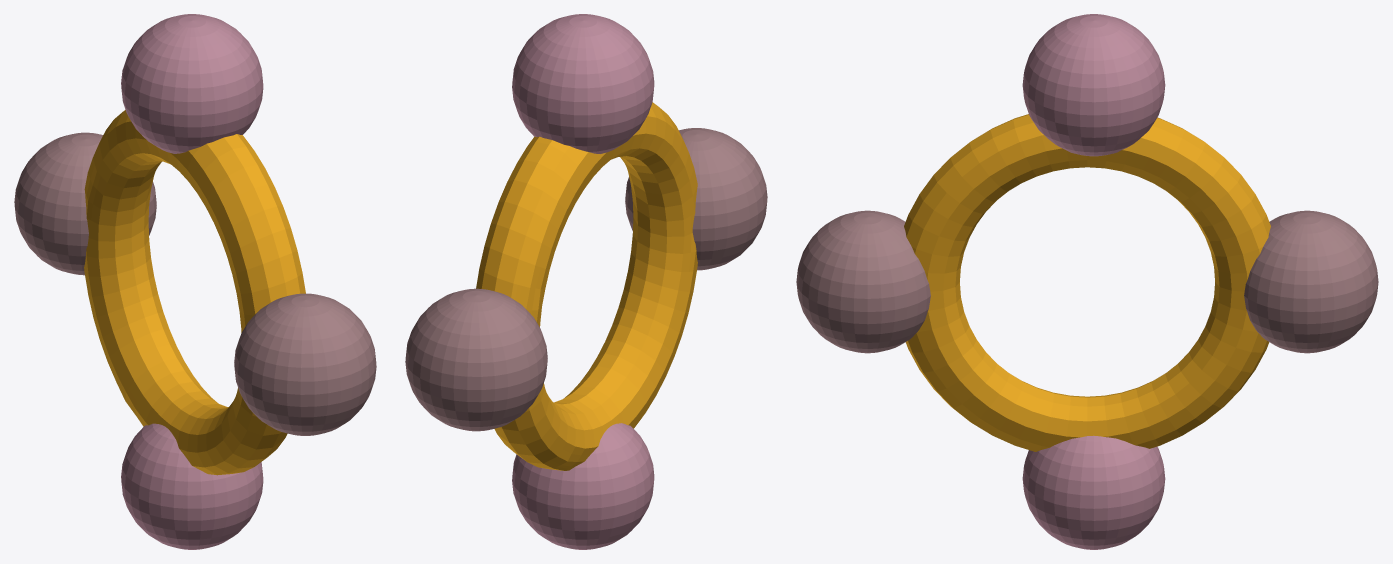
The model's file is collectable.glb.
3 views of the same model, side by side, from view 1: azimuth 30°, elevation 25°; view 2: azimuth 150°, elevation 25°; view 3: azimuth 270°, elevation 25° (orthographic).
Parts seen in each view (by area): view 1: Ring, Tops, Sides; view 2: Ring, Tops, Sides; view 3: Ring, Sides, Tops.
Boxes of the visible parts, box(x1,y1,x2,y2) form: Ring: box(84, 110, 305, 475); Tops: box(121, 14, 263, 549); Sides: box(14, 132, 376, 435); Ring: box(476, 102, 697, 470); Tops: box(512, 14, 654, 549); Sides: box(405, 128, 767, 431); Ring: box(904, 114, 1270, 451); Sides: box(796, 210, 1378, 353); Tops: box(1022, 14, 1165, 549).
Bounding box in the file's own units: 2 × 8.08 × 8.16.
